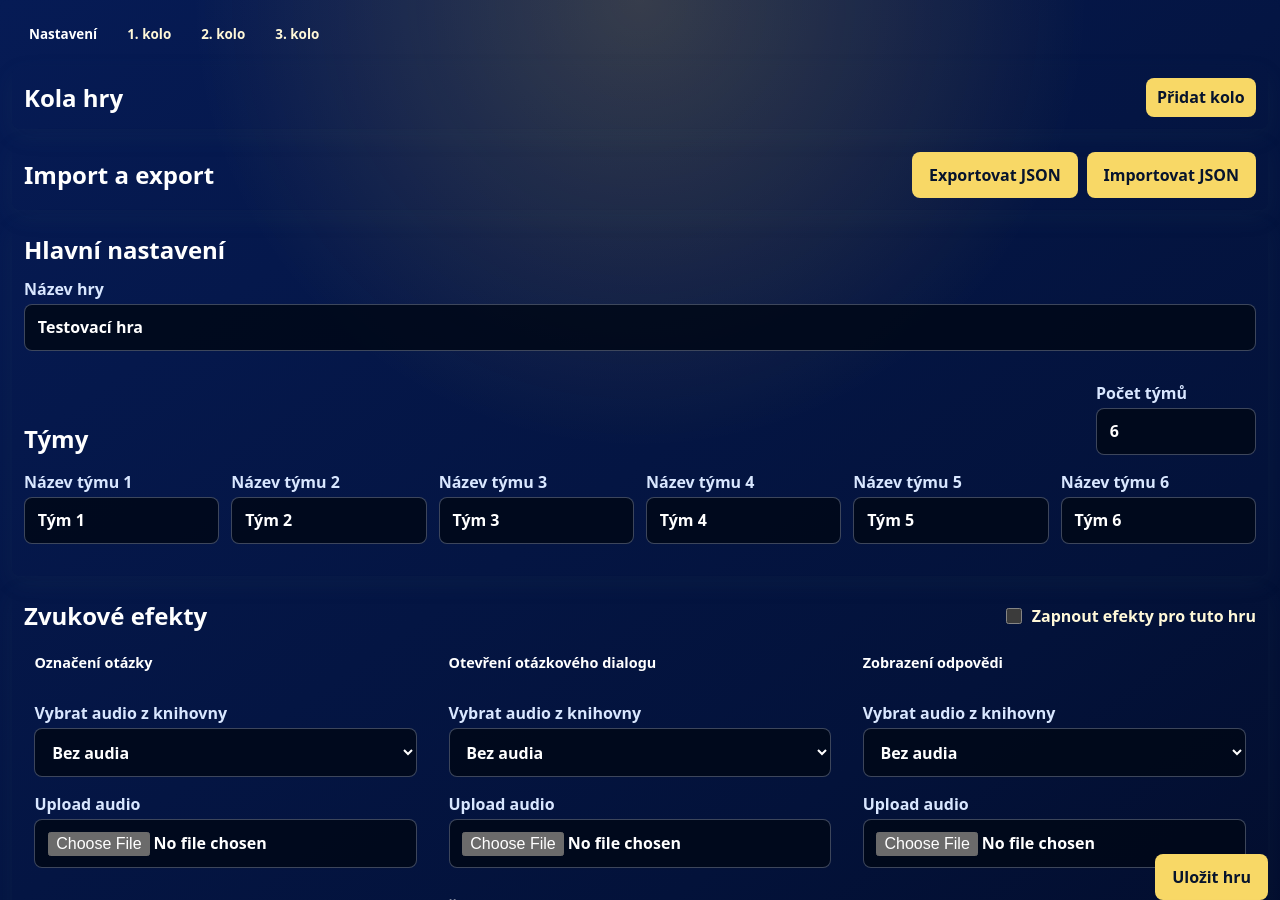
Test case: GameEditor › neuloží hru bez názvu a zobrazí českou chybu
This screenshot has width=1280, height=900.
Clear the field labelled "Název hry". click: (640, 327)
box: [24,304,1256,350]
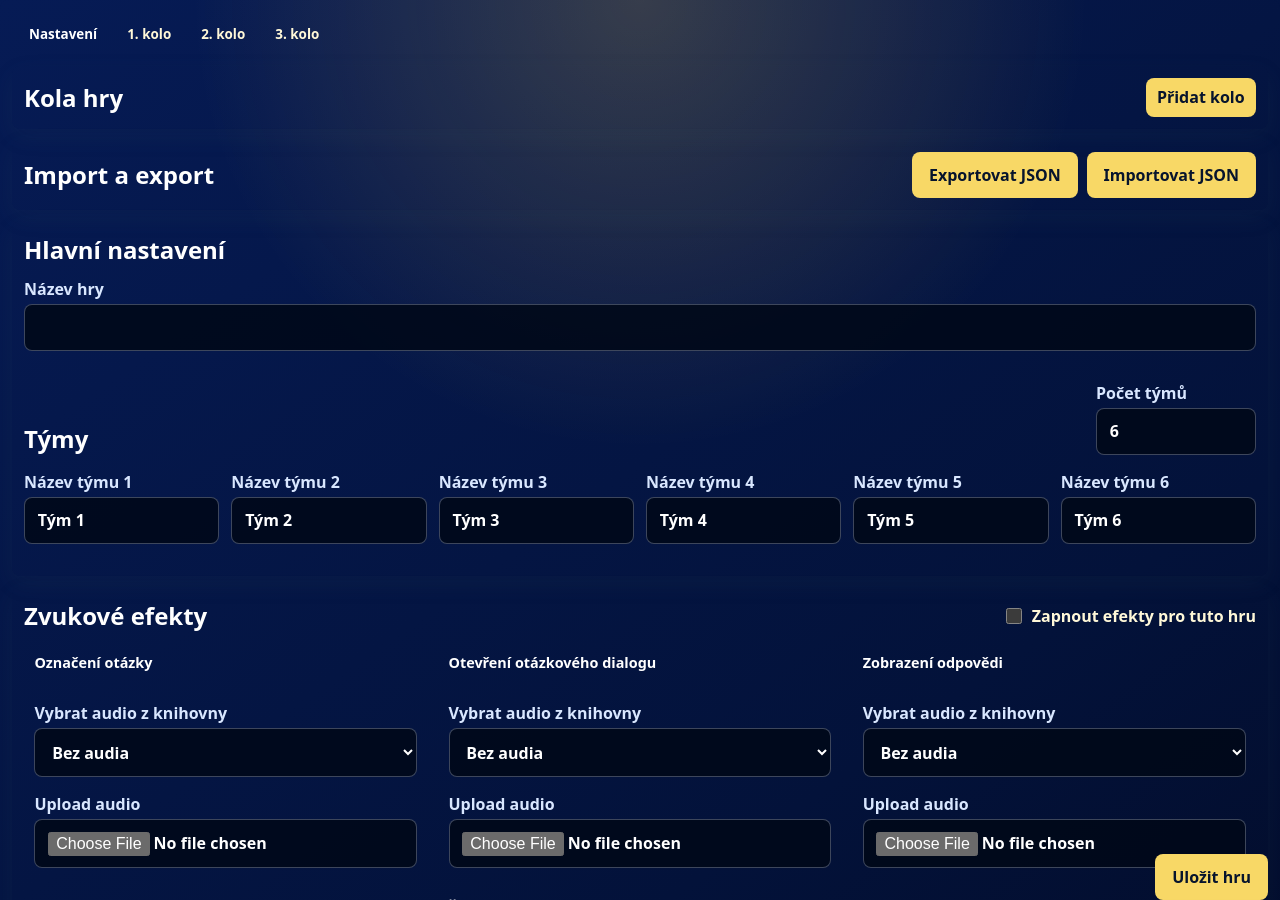
Click the button "Uložit hru". click: click(1212, 877)
box: [1155,854,1268,899]
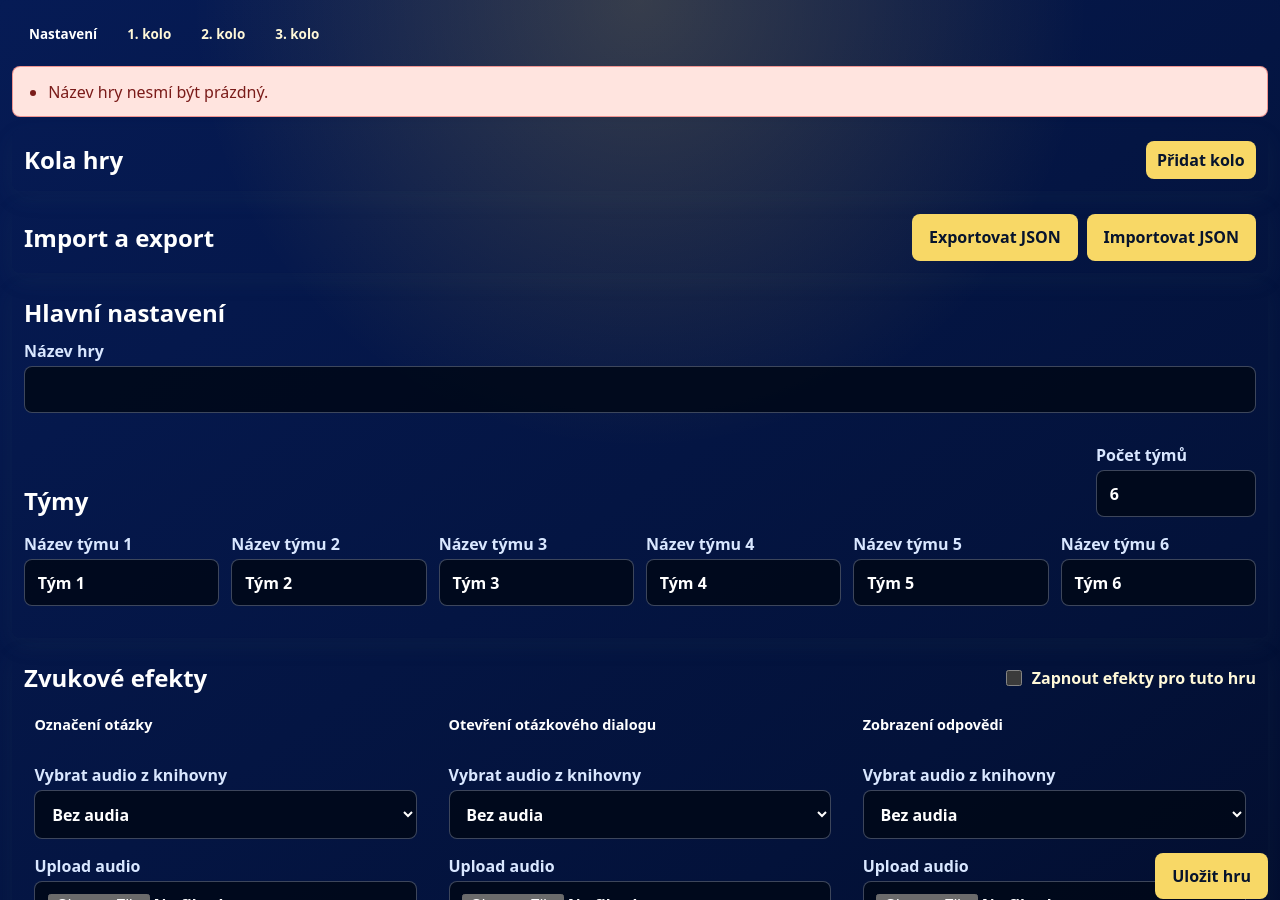
Now the list item "Název hry nesmí být prázdný." is shown, box [48,81,268,103]
